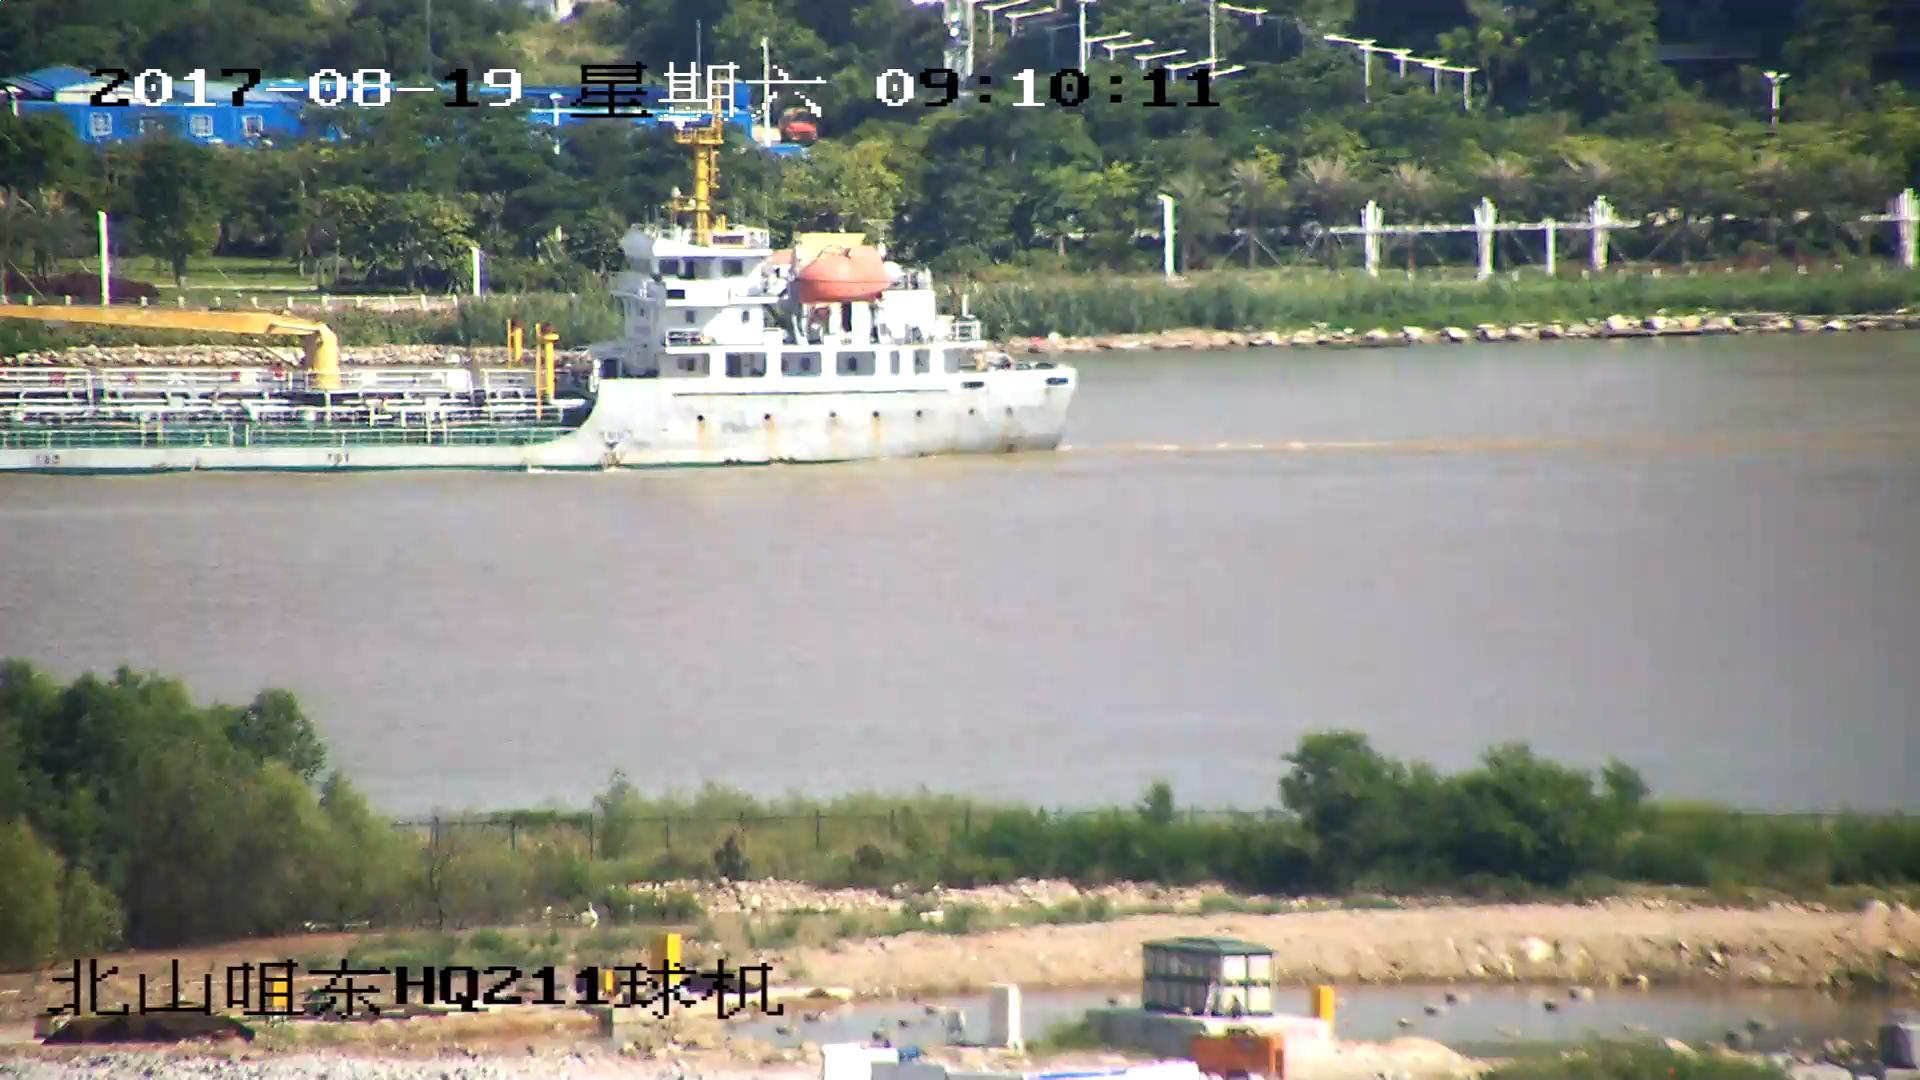Ship: (3, 131, 1087, 469)
